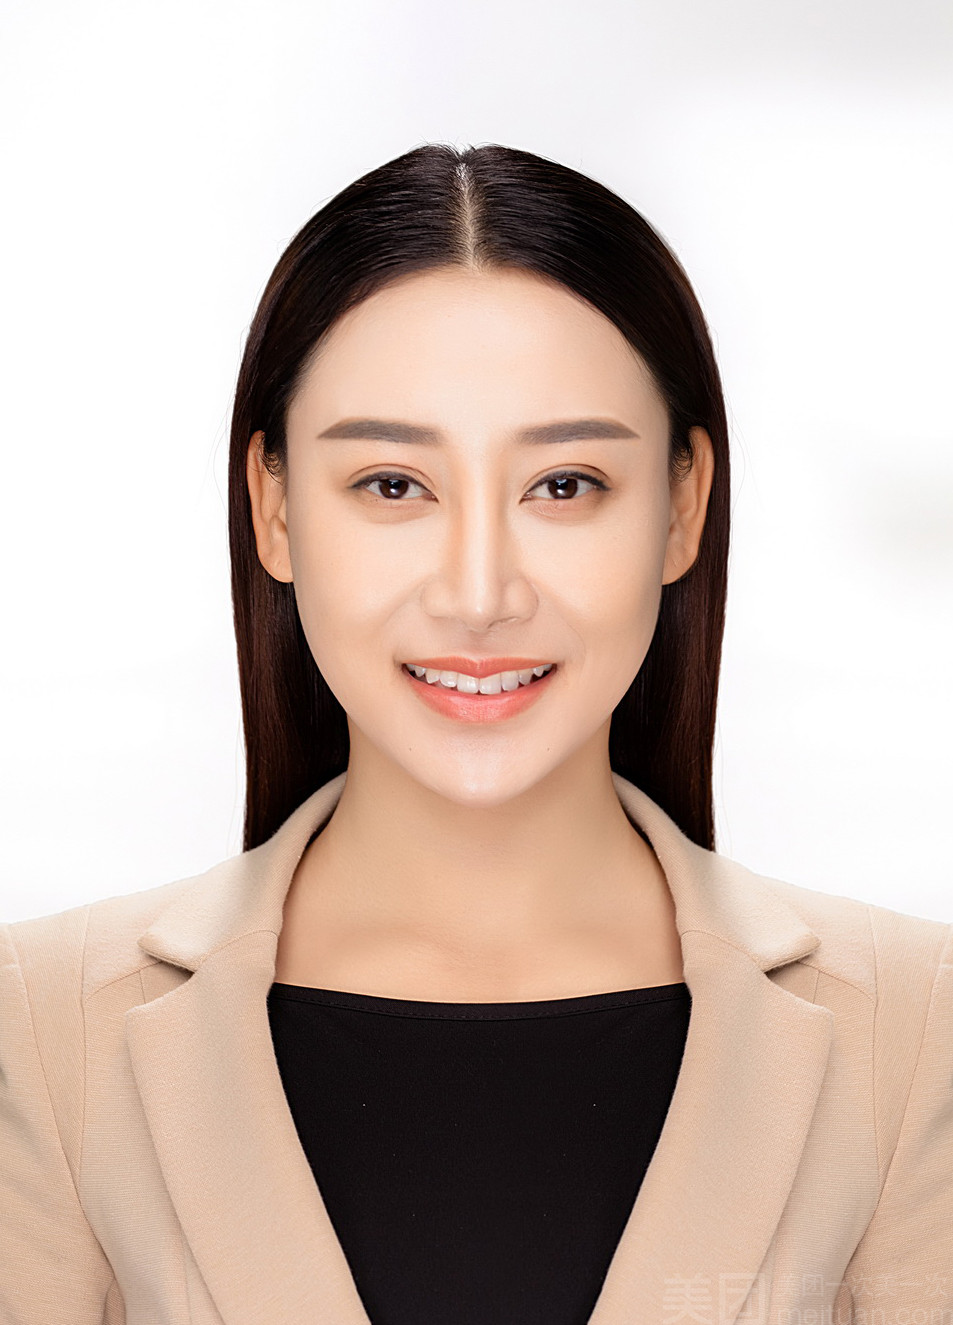unmask: (289, 306, 675, 785)
